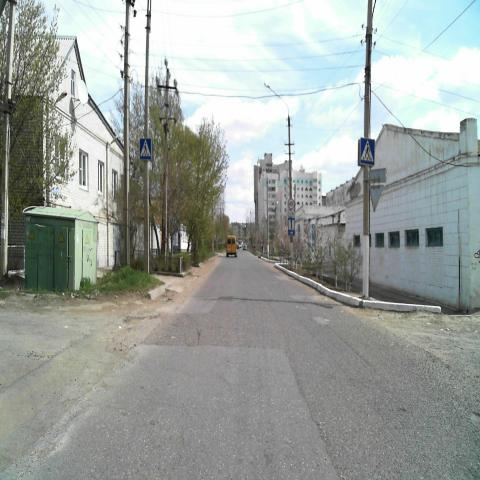7_4: (288, 218, 294, 236)
